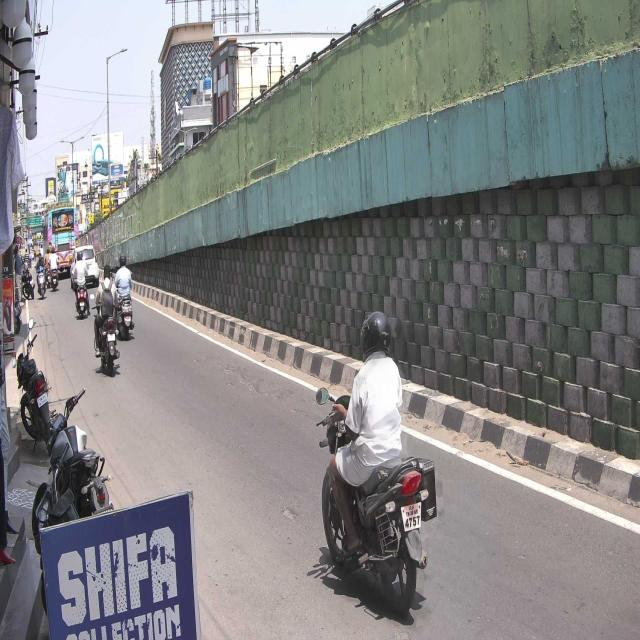single_rider: (321, 309, 427, 613)
